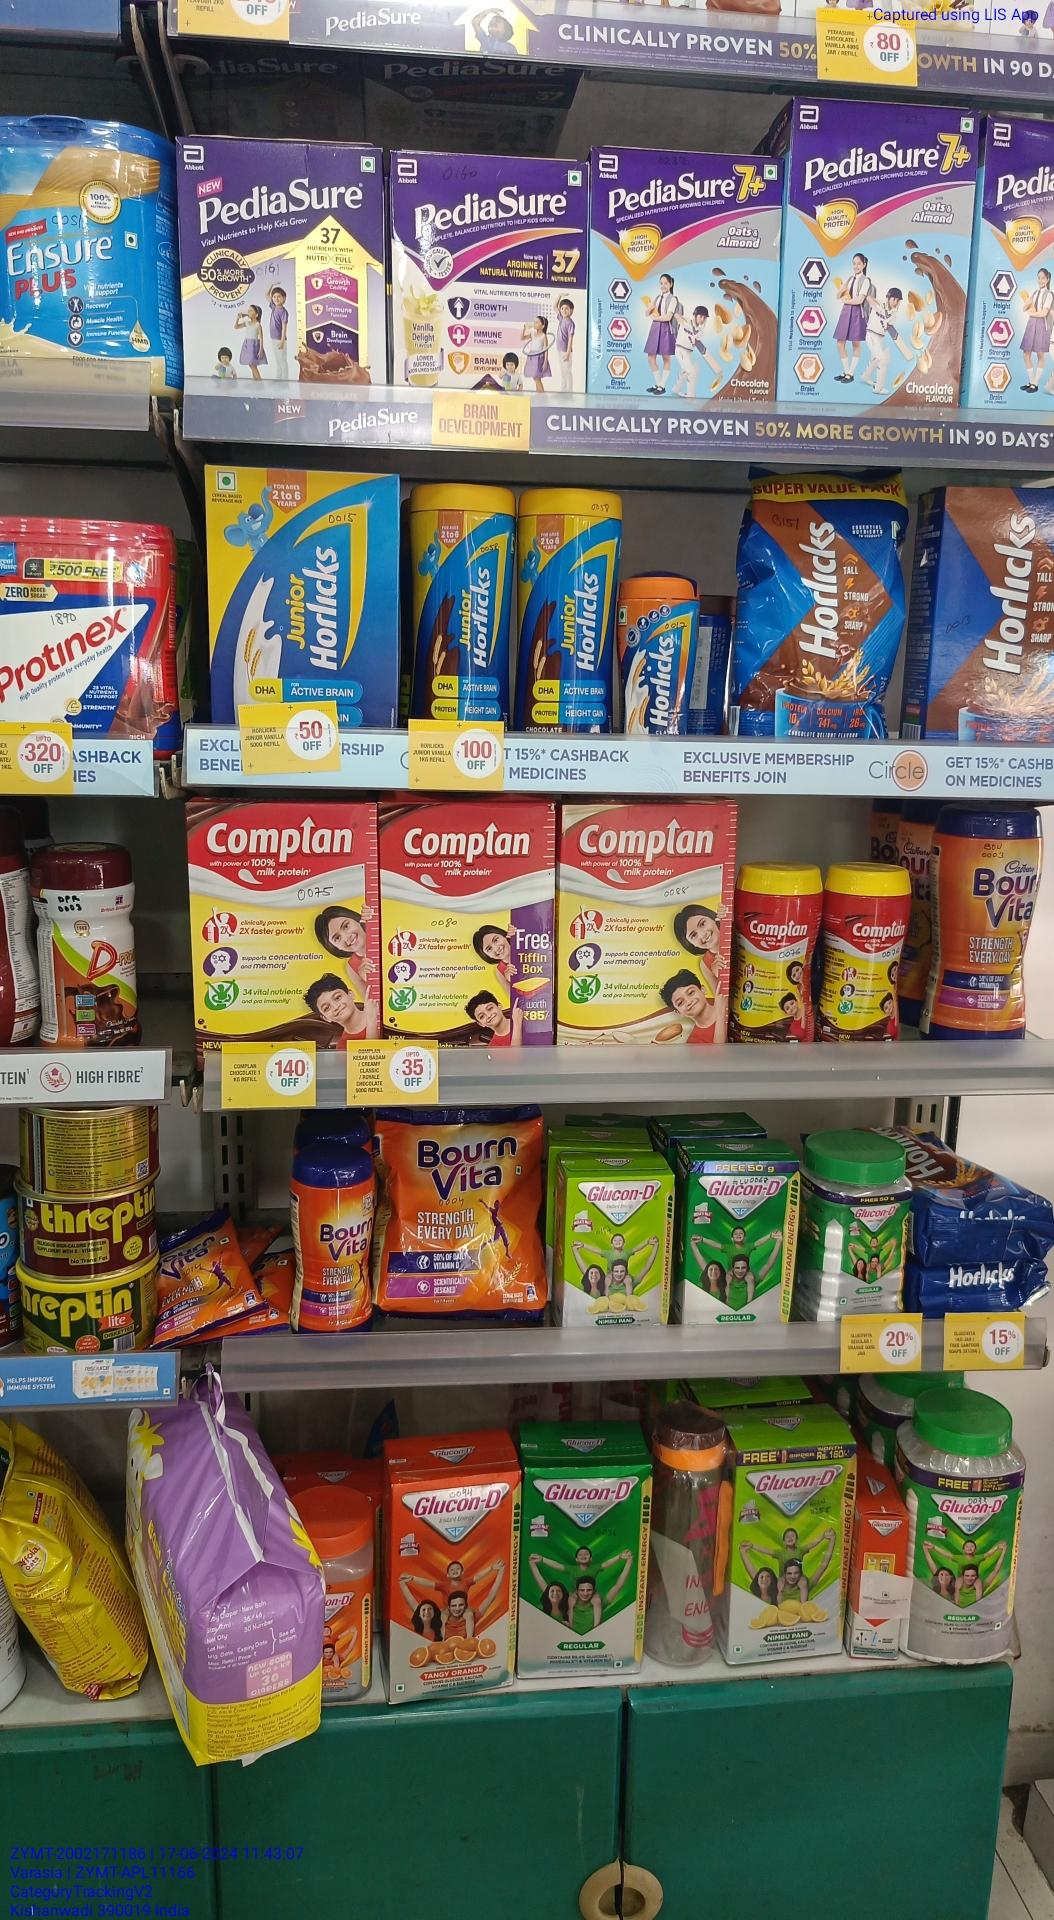BOURN_VITA_200_G_JAR: (291, 1153, 369, 1328)
BOURN_VITA_500_G_JAR: (928, 803, 1035, 1038)
BOURN_VITA_500_G_POUCH: (380, 1116, 540, 1309)
COMPLAN_CHOCOLATE_200_GMS_JAR: (736, 865, 815, 1043), (826, 867, 905, 1035)
COMPLAN_CHOCOLATE_500_GMS_PACK: (186, 807, 376, 1042), (382, 807, 554, 1043)
COMPLAN_KESAR_BADAM_500_GMS_PACK: (561, 803, 731, 1046)
HORLICK_CHOCOLATE_750_G_POUCH: (729, 471, 896, 726)
HORLICK_CLASSIC_MALT_200_G_JAR: (622, 571, 693, 736)
PEDIASURE_7_PLUS_CHOCOLATE_400_G_PACK: (596, 152, 778, 396)
PEDIASURE_CHOCOLATE_500_G_PACK: (180, 135, 380, 380)
PROTINEX_CHOCOLATE_400_G_JAR: (0, 524, 171, 716)
